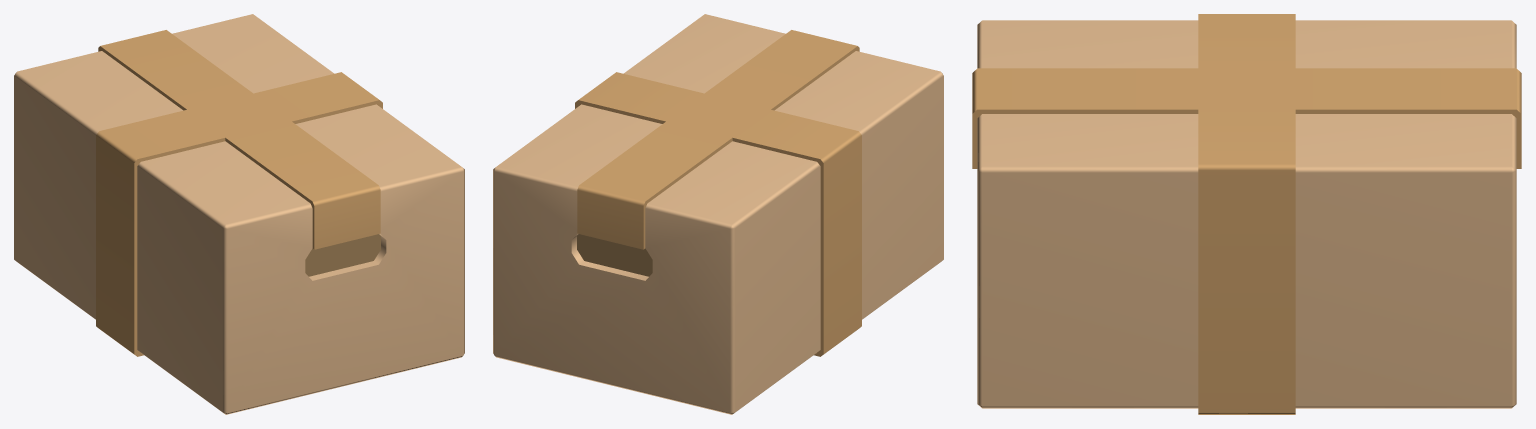
File: medium_box.fbx
The picture shows the model from 3 angles, left to right: view 1: azimuth 30°, elevation 25°; view 2: azimuth 150°, elevation 25°; view 3: azimuth 270°, elevation 25°; orthographic projection. The views are drawn at different scales.
Parts seen in each view (by area): view 1: medium_box; view 2: medium_box; view 3: medium_box.
Part boxes in pixels (bbox=[...]): medium_box: bbox=[14, 14, 464, 414]; medium_box: bbox=[493, 14, 943, 414]; medium_box: bbox=[972, 14, 1521, 414].
Bounding box in the file's own units: 0.7505 × 0.5695 × 1.13.
